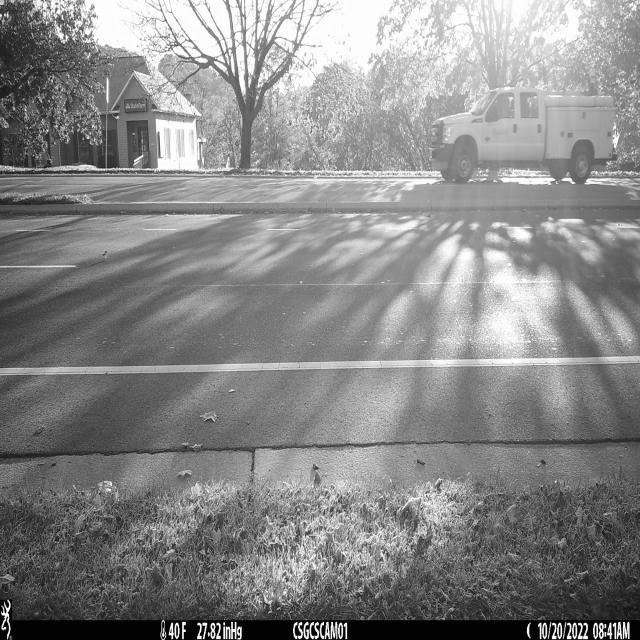Pickup- Utility: (428, 87, 616, 185)
